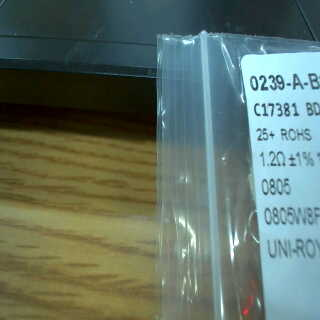1.2R: (252, 145, 291, 194)
